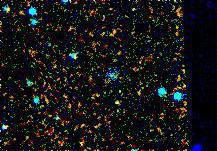star: (102, 91, 132, 121)
